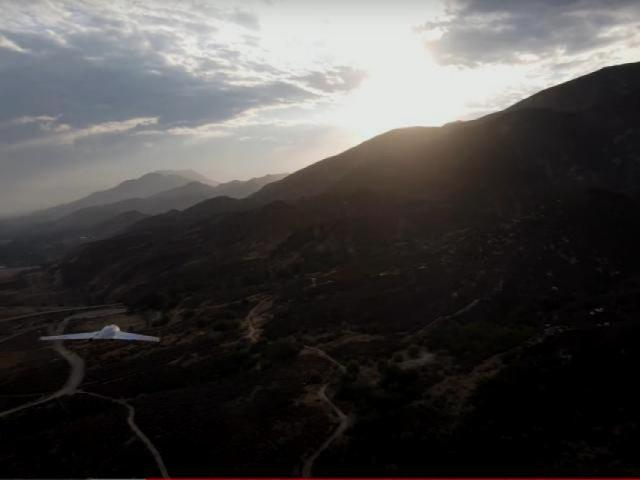iha: (37, 316, 165, 354)
